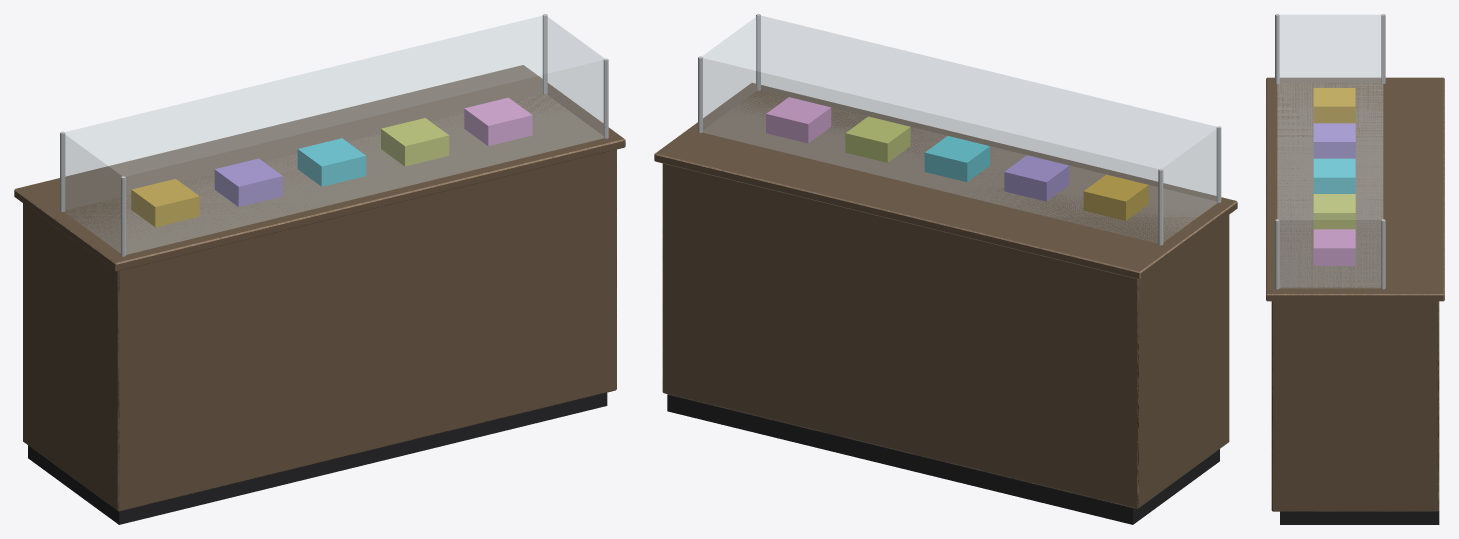
Rendered from shop_counter.glb.
The picture shows the model from 3 angles, left to right: view 1: azimuth 30°, elevation 25°; view 2: azimuth 150°, elevation 25°; view 3: azimuth 270°, elevation 25°; orthographic projection. The views are drawn at different scales.
Visible parts, largest first — view 1: shop_counter; view 2: shop_counter; view 3: shop_counter.
Part boxes in pixels (x1=…): shop_counter: x1=14, y1=14, x2=625, y2=524; shop_counter: x1=654, y1=14, x2=1237, y2=524; shop_counter: x1=1266, y1=14, x2=1444, y2=524.
Bounding box in the file's own units: 1.84 × 1.2 × 0.64.
10 materials, 2 textured.
